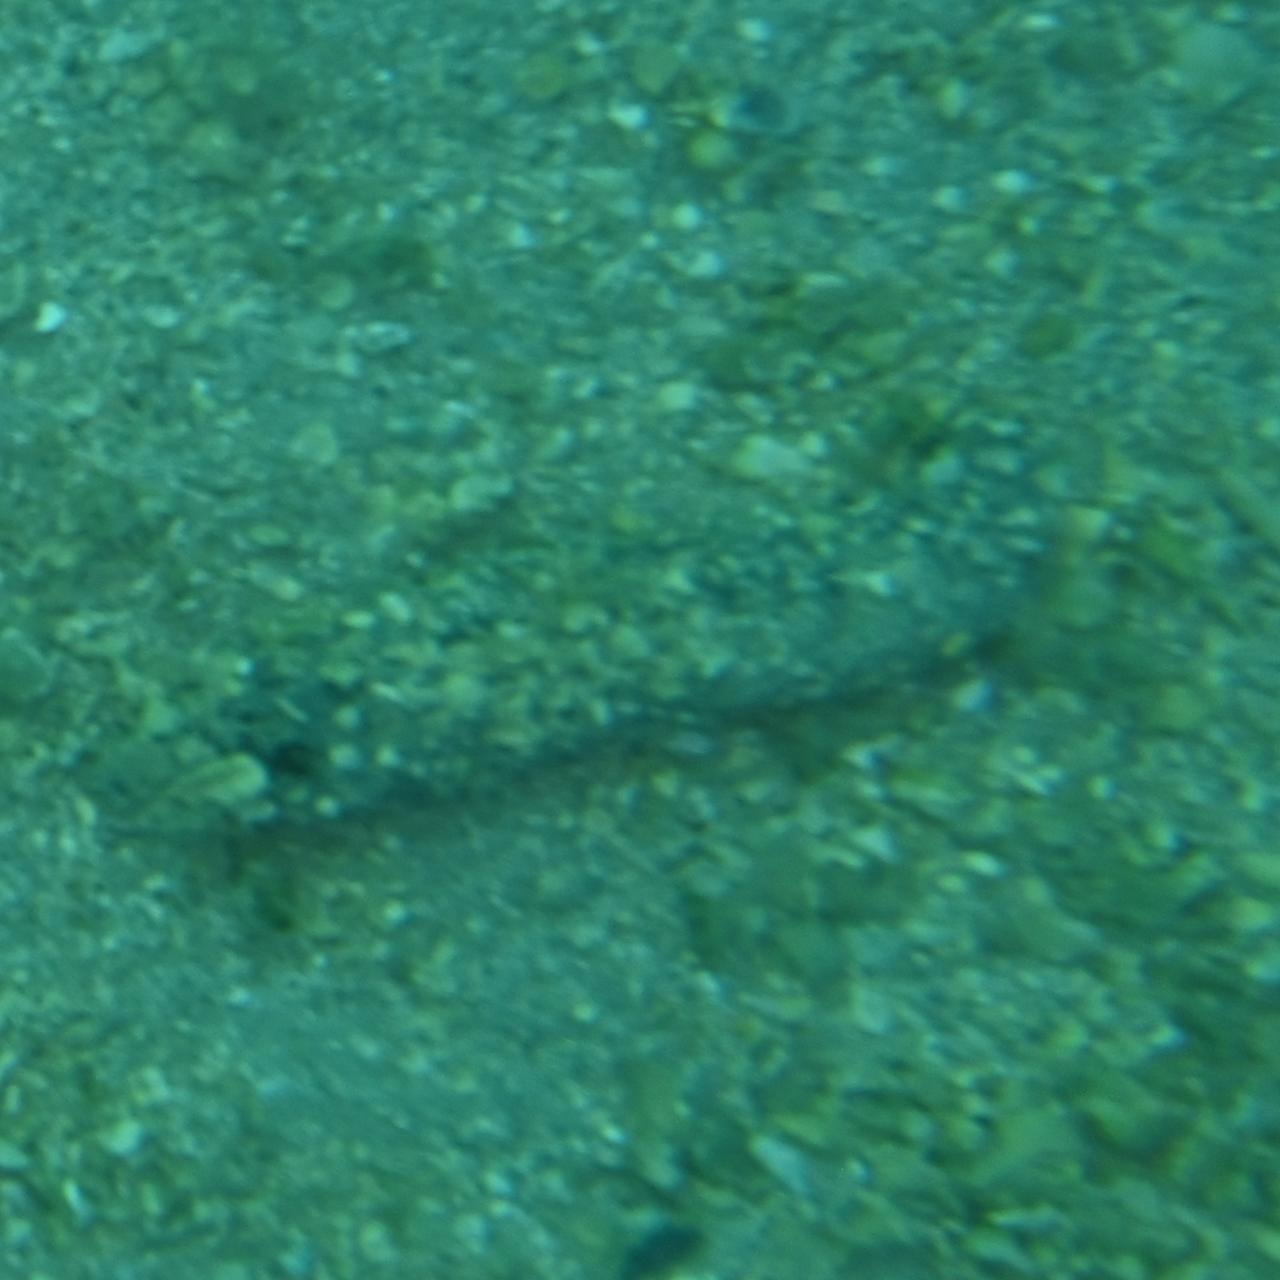Holothuria tubulosa: (224, 418, 1056, 862)
